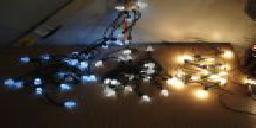LED: (98, 47, 160, 108), (56, 97, 88, 116), (165, 74, 185, 93), (78, 72, 99, 87), (194, 87, 212, 102)
